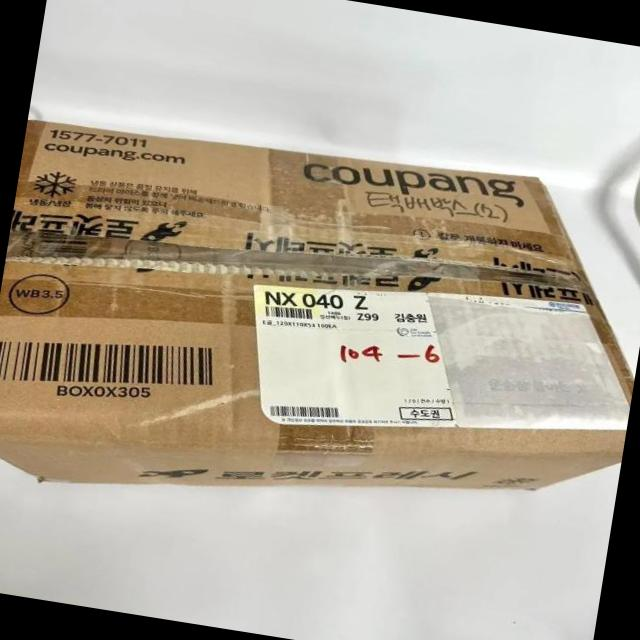box: (0, 121, 640, 485)
